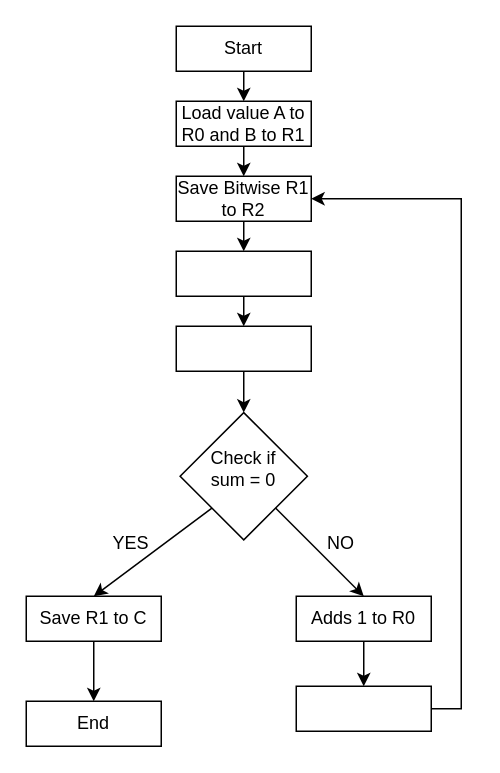
Some shapes in this 500 by 773 pixel diagram are drawn without their labels. Here are the shapes that lost their labels. From the top down, the centre of each, then its label:
At [243,273]: "Add 1 to R2".
At [243,348]: "Add R0 to R2".
At [363,708]: "Adds -1 to R1".
